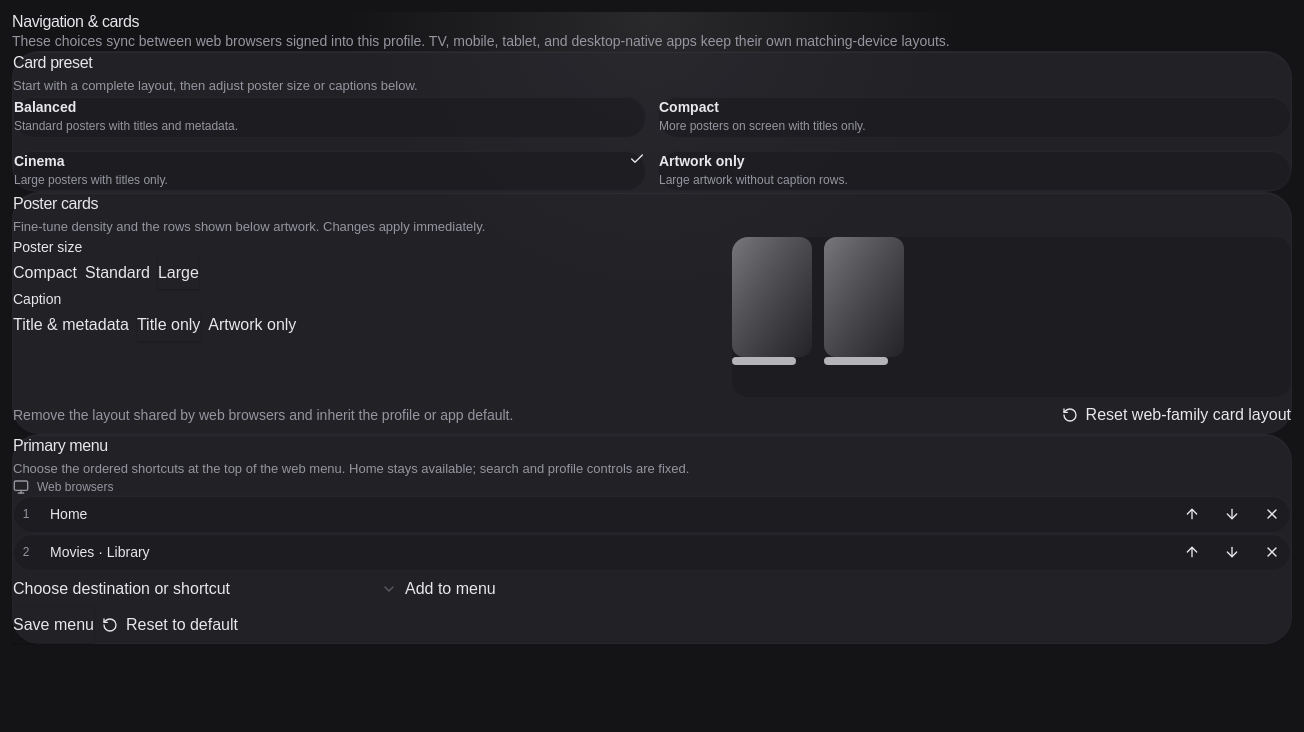
Scenario: InterfaceSettings card resets › follows the effective menu after clearing a web-family override
Click the button named "Remove Movies · Library" at (1272, 552), box left=1254, top=534, right=1290, bottom=570
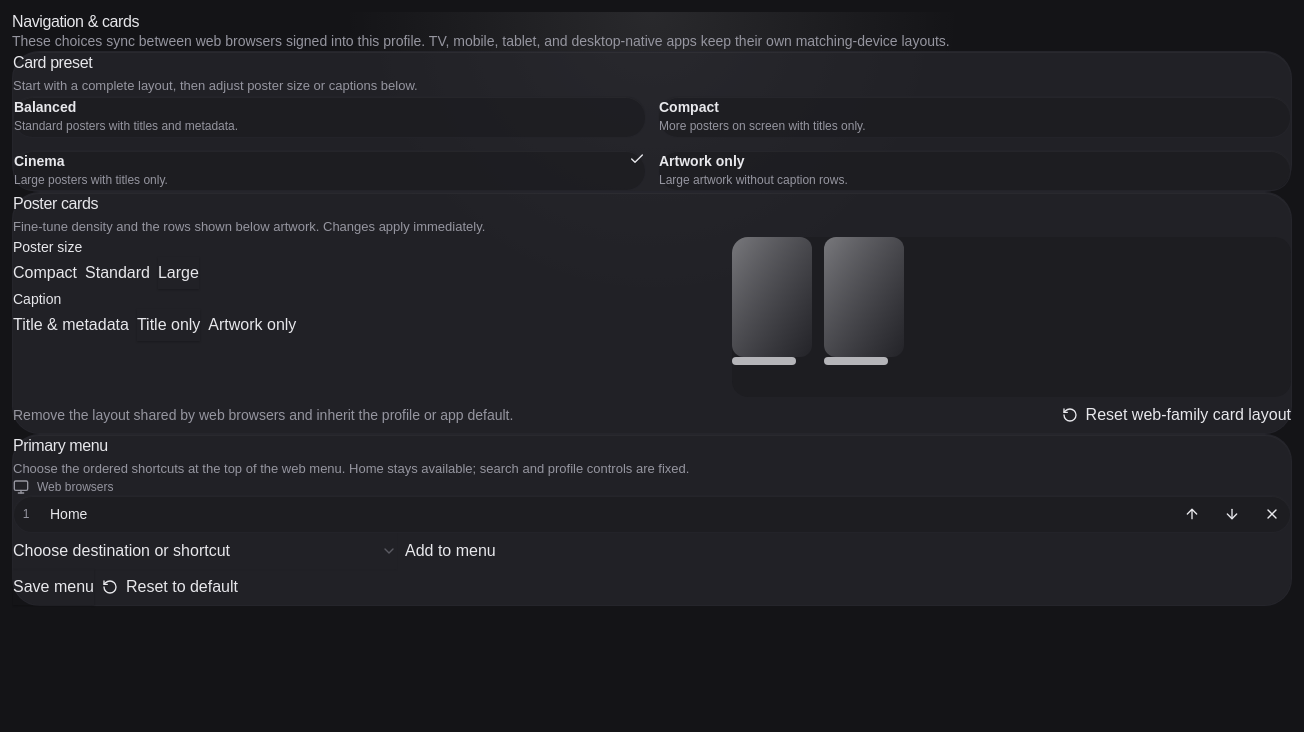
Result: the text "Movies · Library" is gone
Click the button "Reset to default" at (170, 587), box left=102, top=569, right=238, bottom=605
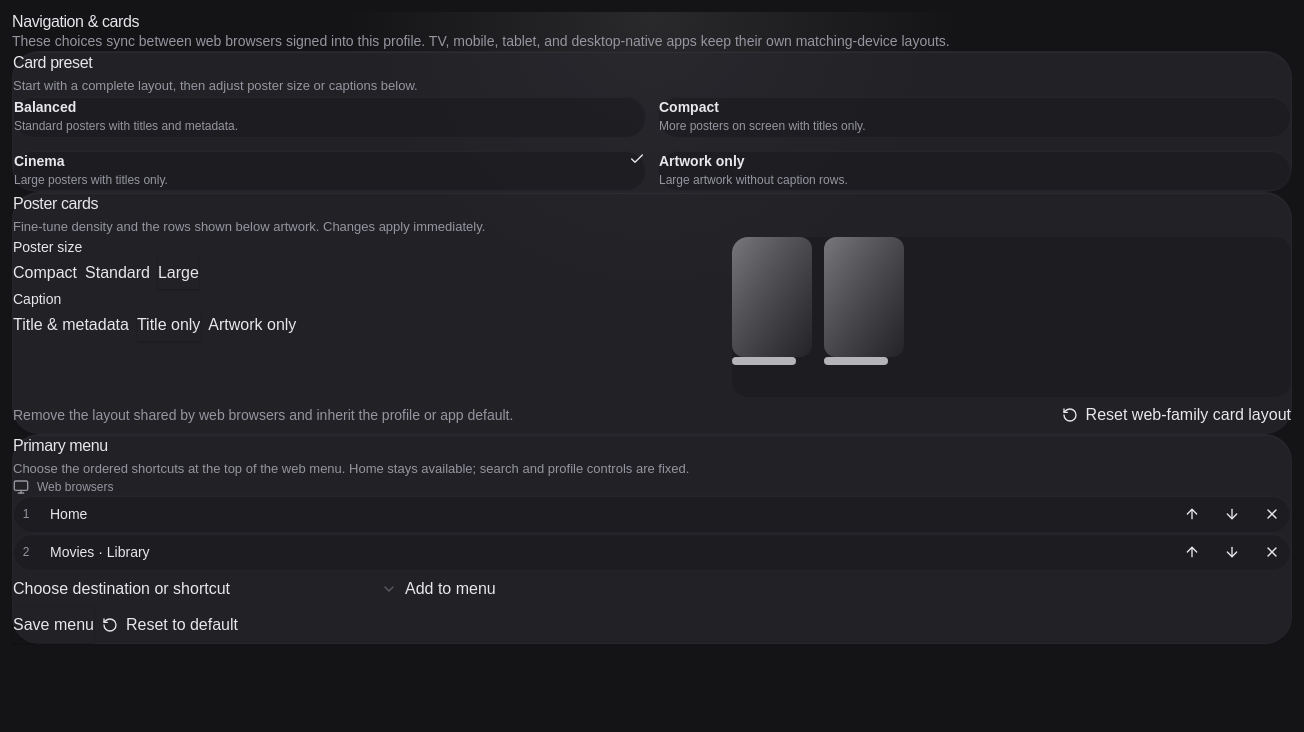
Result: the text "Movies · Library" is shown at left=50, top=544, right=150, bottom=560
Result: the button "Save menu" is disabled at left=13, top=607, right=94, bottom=643
